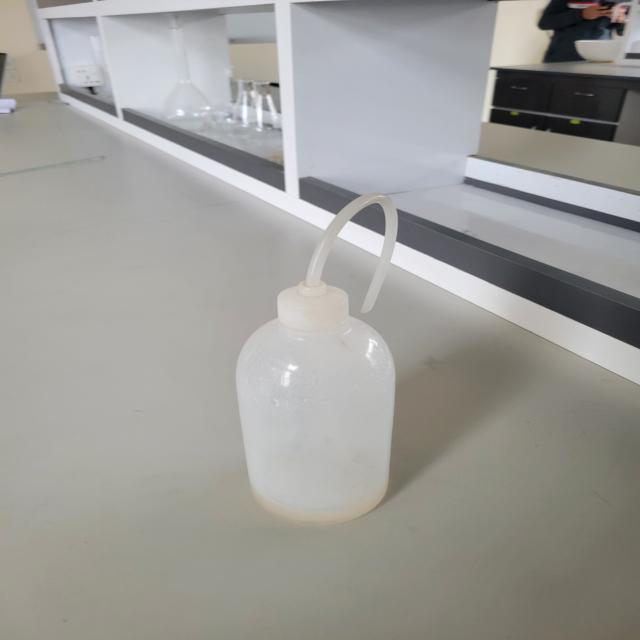Wash_Bottle: (199, 161, 494, 555)
